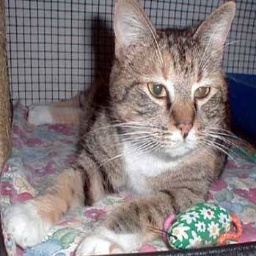cat: (11, 6, 240, 241)
